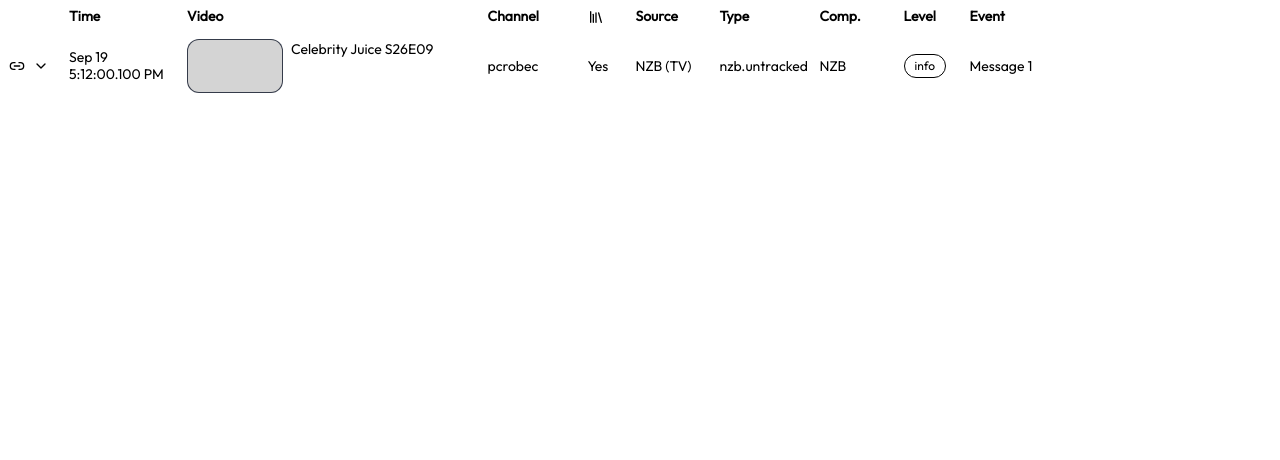
Scenario: EventLogTable › expansion row › shows the recorded details when expanded
Click the button named "Show details" at (41, 66), box [29,54,53,78]
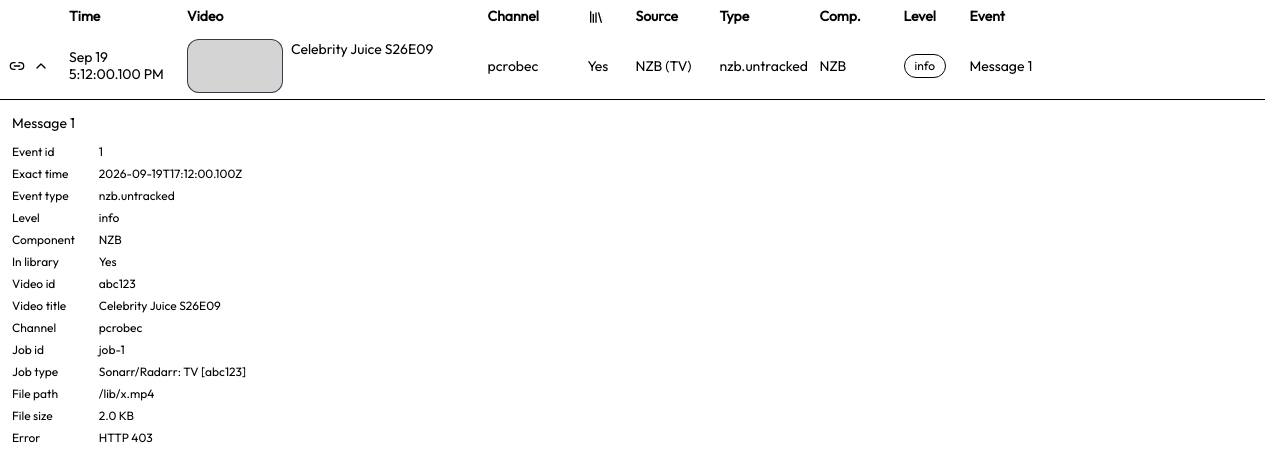
expect the element with test id "event-detail" shows "/lib/x.mp4": met, box [99,386,154,401]
